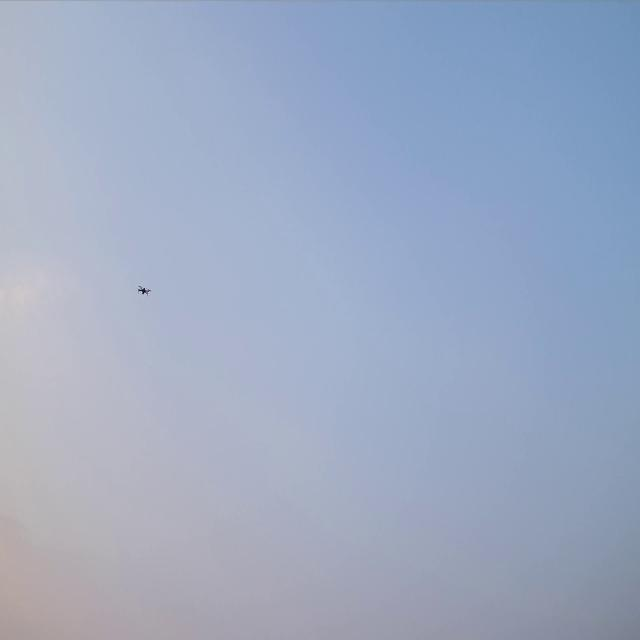UAV: (136, 282, 152, 298)
